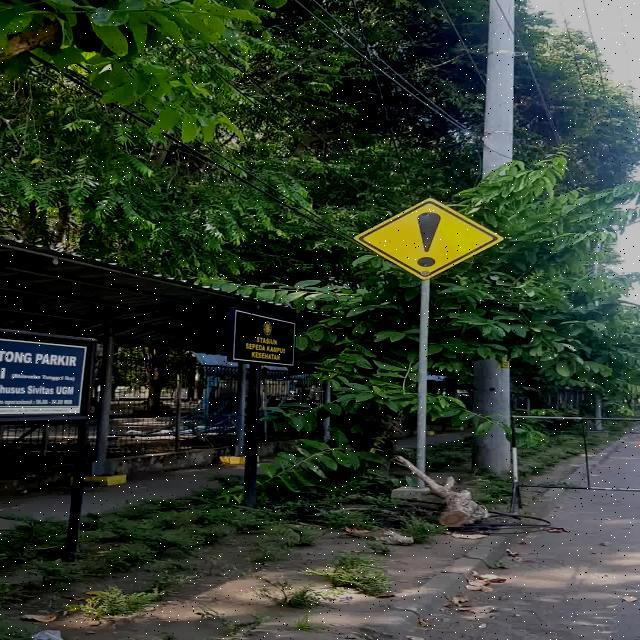Hati-Hati: (353, 198, 504, 279)
